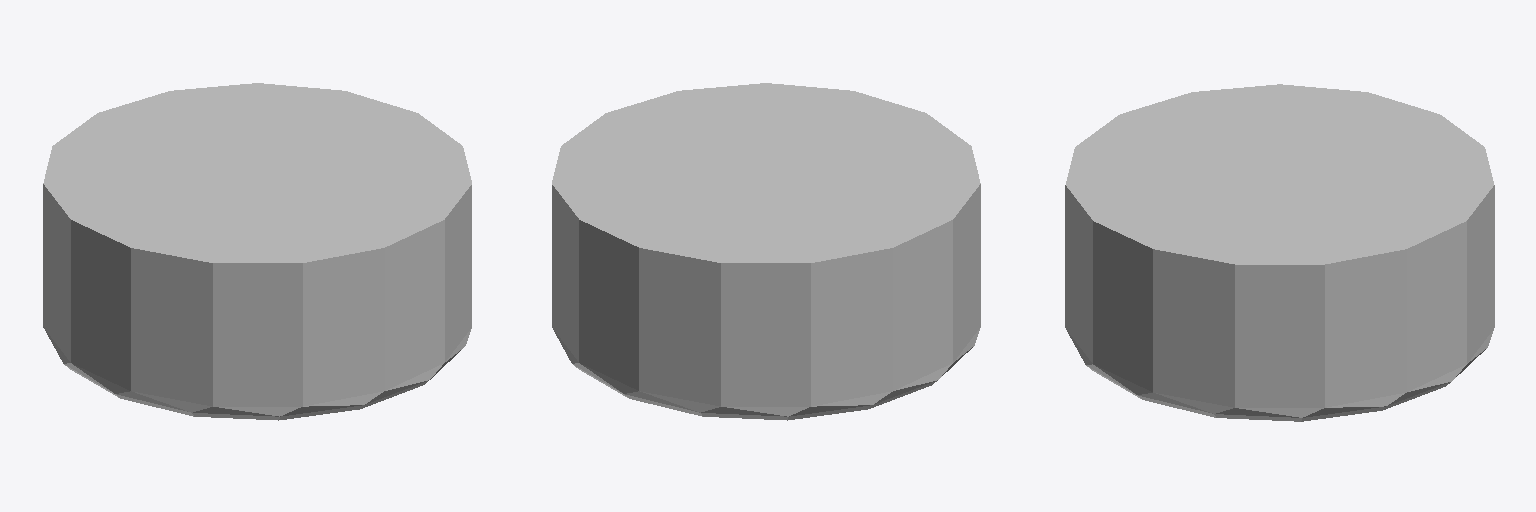
Rendered from OEM3.obj.
3 renders of one model, left to right at view 1: azimuth 30°, elevation 25°; view 2: azimuth 150°, elevation 25°; view 3: azimuth 270°, elevation 25°, orthographic.
Parts seen in each view (by area): view 1: WFB-KB; view 2: WFB-KB; view 3: WFB-KB.
Part boxes in pixels (bbox=[...]): WFB-KB: bbox=[43, 83, 471, 420]; WFB-KB: bbox=[552, 83, 980, 420]; WFB-KB: bbox=[1065, 84, 1494, 421].
Bounding box in the file's own units: 5.94 × 2.5 × 5.97.